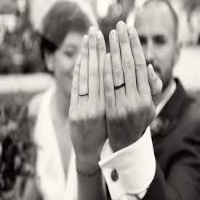ring: (77, 34, 90, 104), (110, 28, 121, 99)
